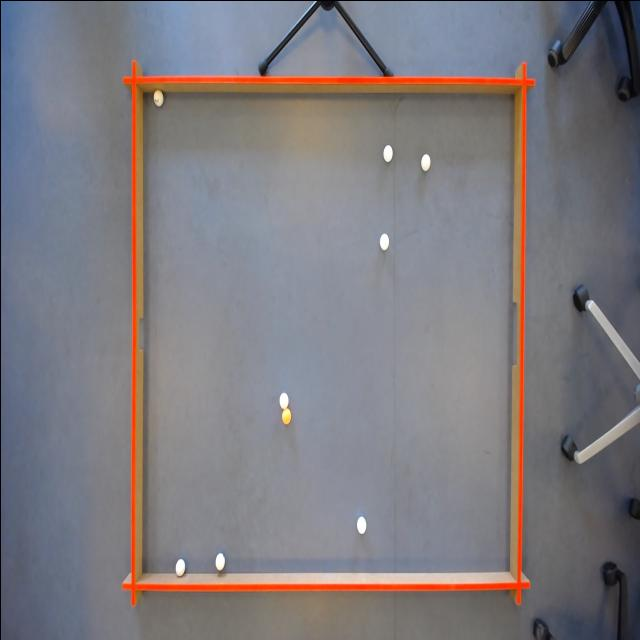orange_ball: (280, 405, 292, 429)
white_ball: (381, 140, 395, 164), (354, 512, 368, 536), (150, 85, 164, 109), (418, 148, 431, 172), (213, 550, 226, 573), (378, 229, 390, 252), (173, 554, 185, 576), (278, 388, 288, 409)
